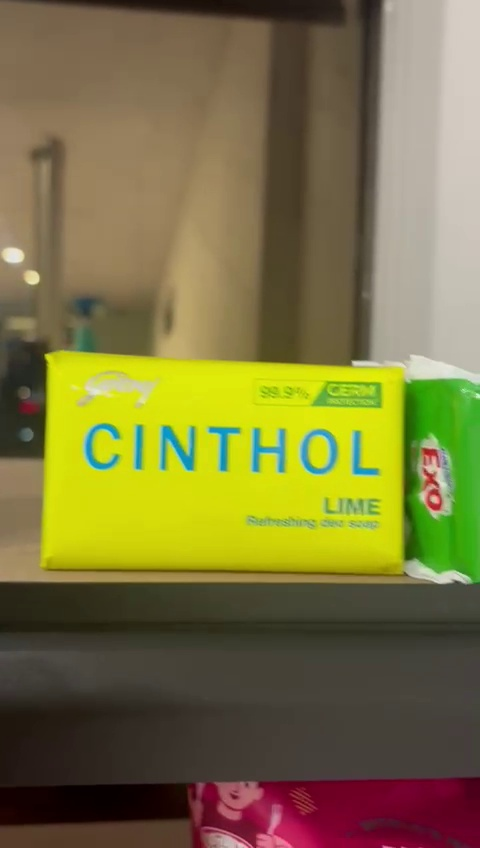Cinthol: (45, 350, 401, 581)
